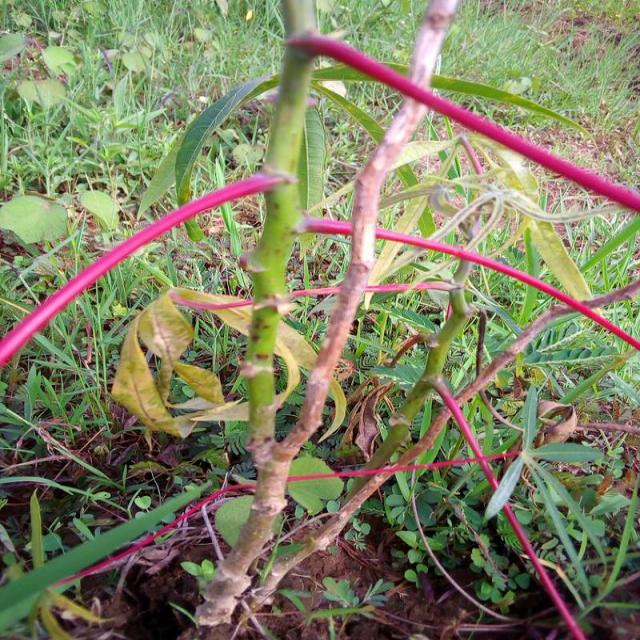cassava leaf: (0, 193, 68, 245)
